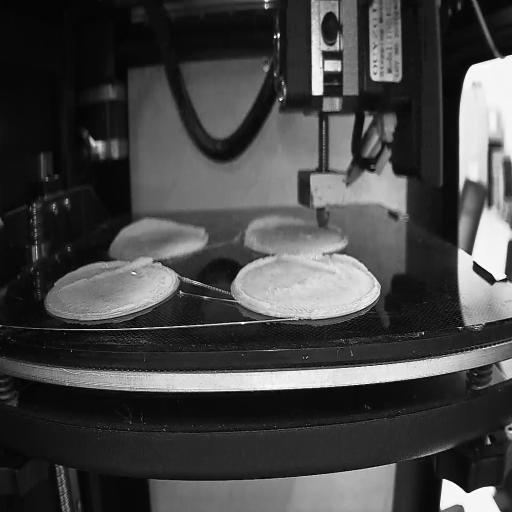over_extrusion: (59, 254, 155, 295), (115, 214, 207, 242), (233, 254, 280, 307), (244, 213, 304, 249), (284, 254, 367, 276)
